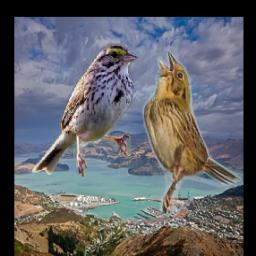Sparrow: (141, 50, 241, 214), (31, 44, 138, 178)
